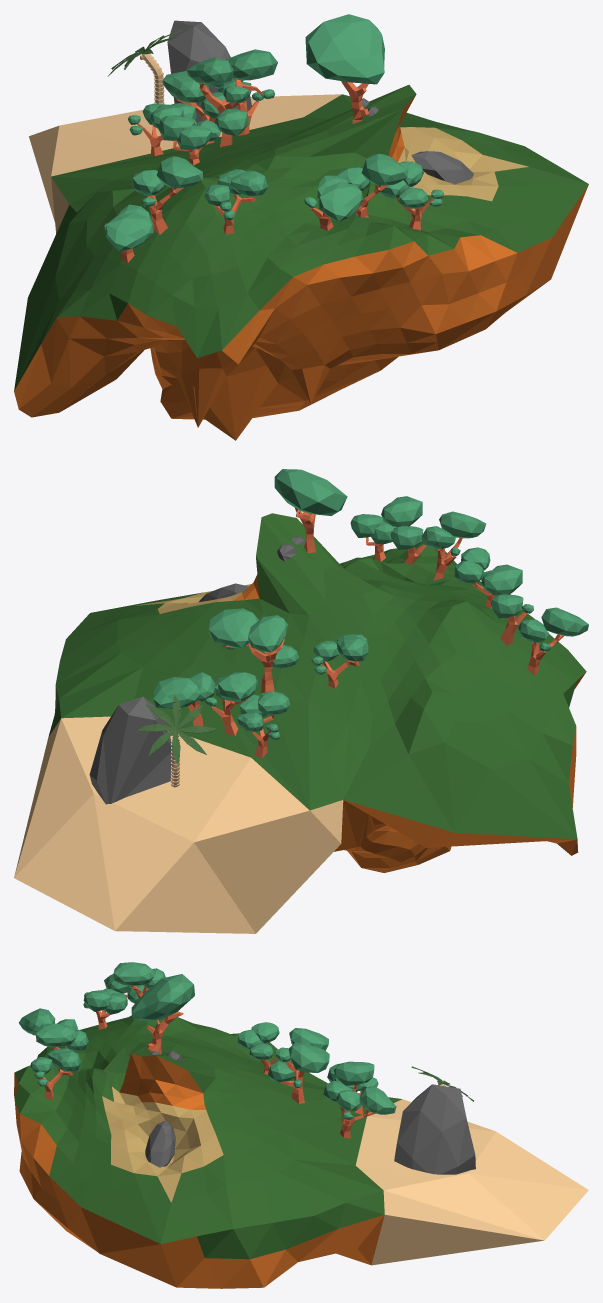
The model's file is Islas4.fbx.
3 views of the same model, one above another, from view 1: azimuth 30°, elevation 25°; view 2: azimuth 150°, elevation 25°; view 3: azimuth 270°, elevation 25° (orthographic). The views are drawn at different scales.
Parts seen in each view (by area): view 1: Tierra.002; view 2: Tierra.002; view 3: Tierra.002.
Boxes of the visible parts, x1=… form: Tierra.002: x1=14, y1=14, x2=588, y2=440; Tierra.002: x1=14, y1=469, x2=588, y2=933; Tierra.002: x1=14, y1=962, x2=588, y2=1288.
Size of the model in its own units: 2737 by 1854 by 3087.
